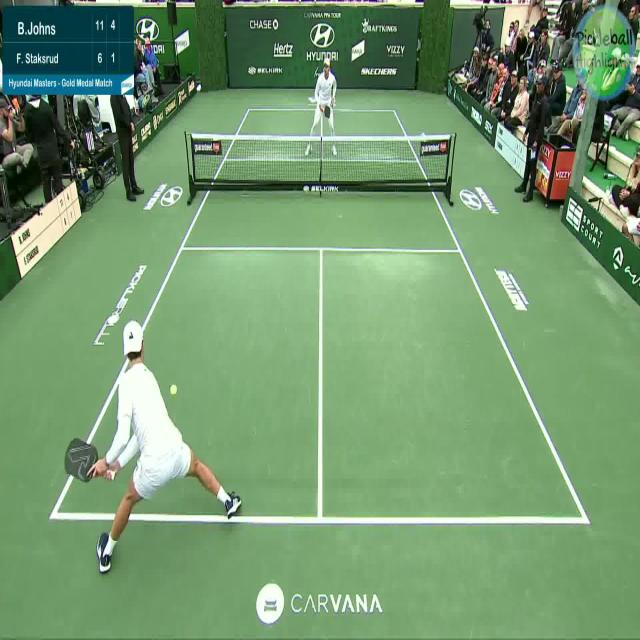Court: (56, 110, 584, 522)
ball: (167, 380, 180, 400)
